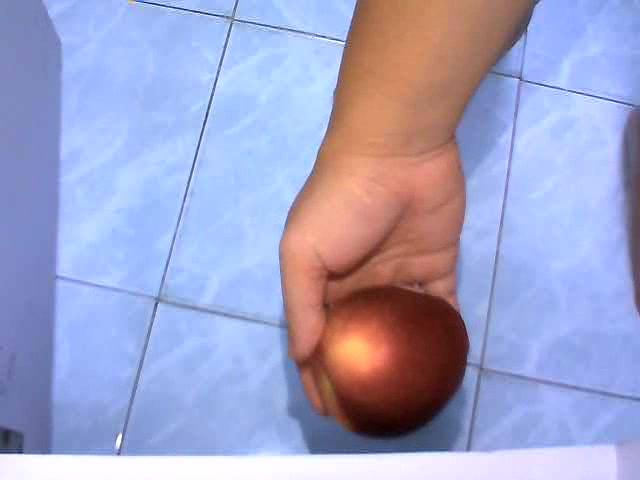apple: (308, 282, 471, 436)
